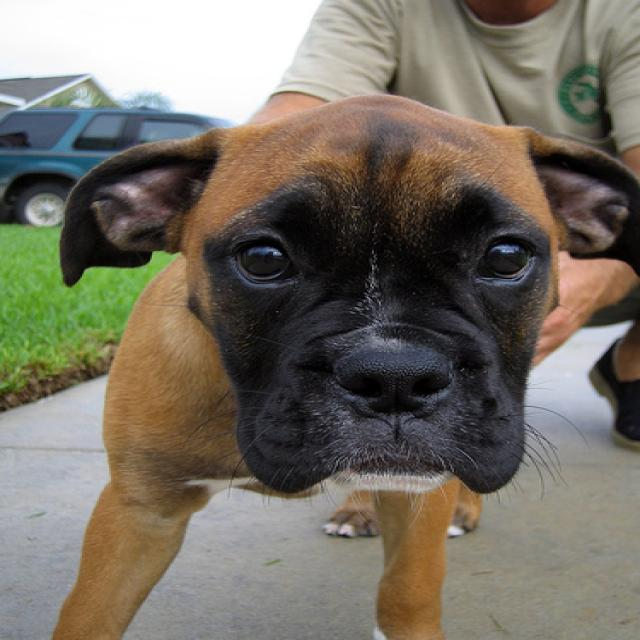light_vehicle: (0, 107, 242, 227)
